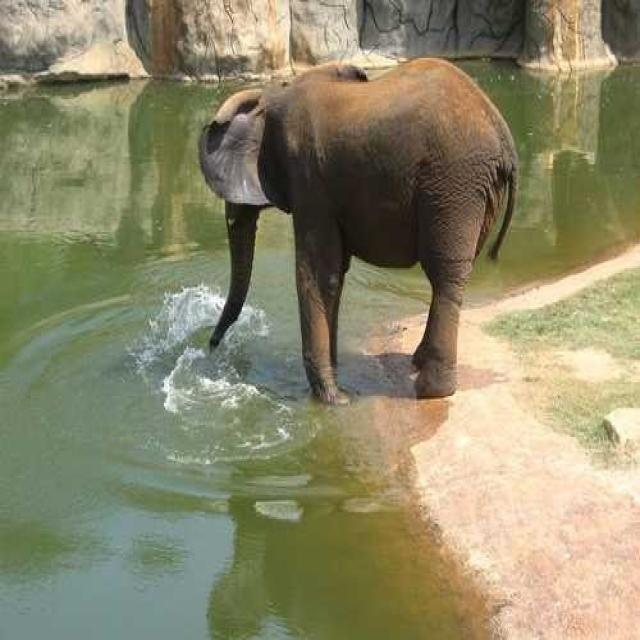Elephant: (197, 55, 520, 406)
